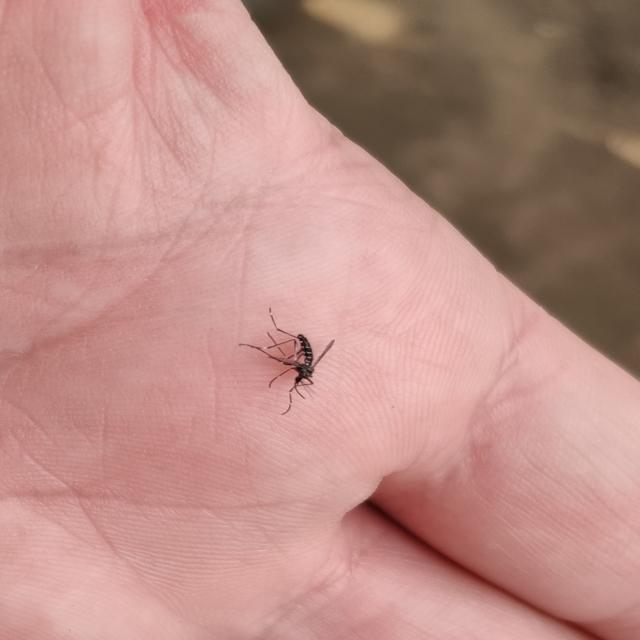albopictus: (233, 301, 341, 413)
